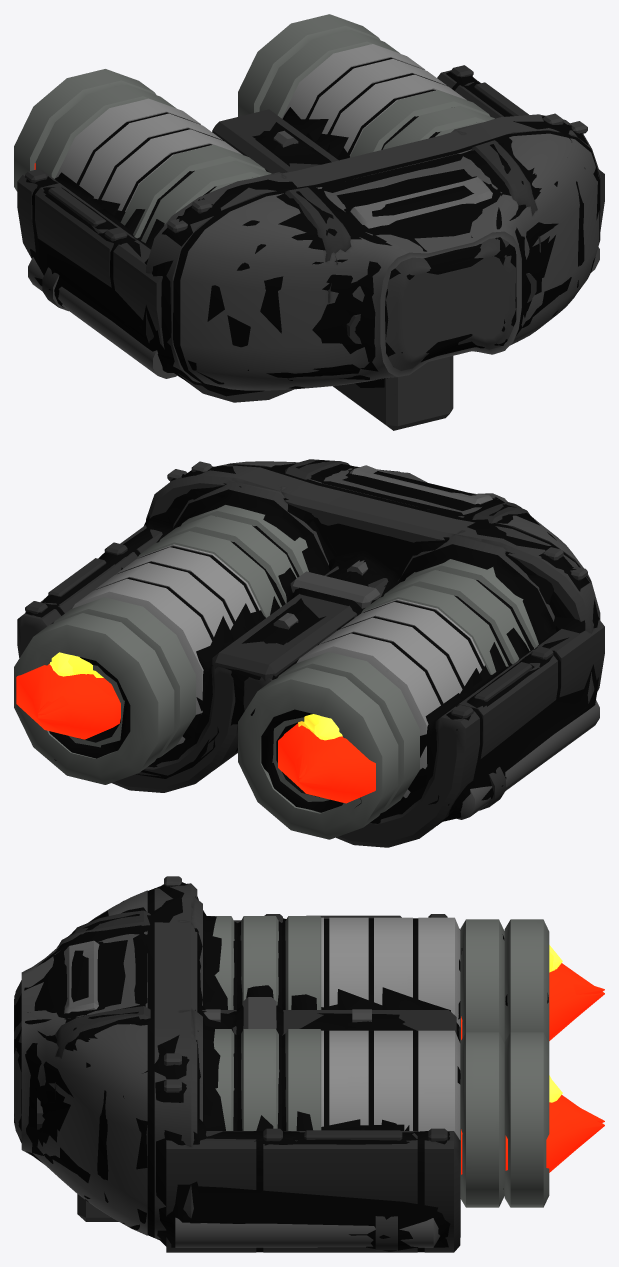
The model's file is dual-shot-option.glb.
3 views of the same model, one above another, from view 1: azimuth 30°, elevation 25°; view 2: azimuth 150°, elevation 25°; view 3: azimuth 270°, elevation 25° (orthographic). The views are drawn at different scales.
Visible parts, largest first — view 1: dual-shot-option-body, dual-shot-option-guns-169, dual-shot-option-outline-169, dual-shot-option-guns-188, dual-shot-option-outline-207, dual-shot-option-outline-188, dual-shot-option-guns-207; view 2: dual-shot-option-body, dual-shot-option-guns-169, dual-shot-option-guns-188, dual-shot-option-outline-207, dual-shot-option-outline-169, dual-shot-option-outline-188, dual-shot-option-flash-188, dual-shot-option-guns-207, dual-shot-option-flash-207; view 3: dual-shot-option-body, dual-shot-option-guns-169, dual-shot-option-guns-188, dual-shot-option-outline-207, dual-shot-option-outline-169, dual-shot-option-outline-188, dual-shot-option-guns-207, dual-shot-option-flash-188, dual-shot-option-flash-207.
Part boxes in pixels (box(x1,y1,x2,y2)): dual-shot-option-body: box(17, 65, 604, 430); dual-shot-option-guns-169: box(14, 14, 490, 238); dual-shot-option-outline-169: box(26, 57, 600, 391); dual-shot-option-guns-188: box(35, 30, 494, 243); dual-shot-option-outline-207: box(26, 71, 600, 395); dual-shot-option-outline-188: box(26, 73, 599, 396); dual-shot-option-guns-207: box(105, 75, 482, 211); dual-shot-option-body: box(17, 459, 604, 847); dual-shot-option-guns-169: box(14, 531, 508, 839); dual-shot-option-guns-188: box(53, 515, 530, 812); dual-shot-option-outline-207: box(34, 460, 599, 823); dual-shot-option-outline-169: box(25, 460, 596, 827); dual-shot-option-outline-188: box(26, 460, 598, 822); dual-shot-option-flash-188: box(16, 652, 375, 803); dual-shot-option-guns-207: box(135, 505, 538, 683); dual-shot-option-flash-207: box(37, 655, 319, 778); dual-shot-option-body: box(14, 876, 460, 1252); dual-shot-option-guns-169: box(285, 916, 549, 1207); dual-shot-option-guns-188: box(240, 916, 504, 1207); dual-shot-option-outline-207: box(14, 882, 460, 1251); dual-shot-option-outline-169: box(14, 883, 548, 1252); dual-shot-option-outline-188: box(14, 883, 504, 1252); dual-shot-option-guns-207: box(211, 916, 365, 1130); dual-shot-option-flash-188: box(505, 945, 604, 1172); dual-shot-option-flash-207: box(461, 951, 604, 1174).
Size of the model in its own units: 1.01 by 0.509 by 1.11.
38 materials, 32 textured.
